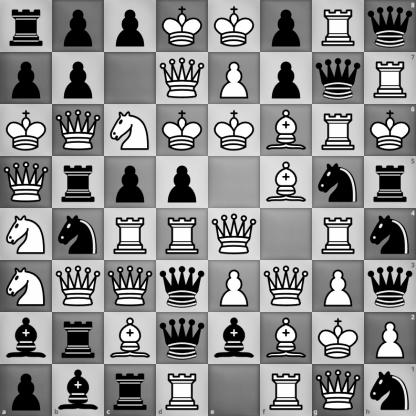B: (105, 313, 156, 364), (261, 105, 312, 156), (261, 157, 312, 208), (261, 313, 312, 364)
K: (364, 104, 416, 156), (1, 105, 52, 156), (157, 1, 208, 52), (157, 105, 208, 156), (209, 1, 260, 52), (209, 105, 260, 156), (313, 313, 364, 364)
N: (1, 209, 52, 260), (1, 261, 52, 312), (105, 105, 156, 156)
P: (364, 312, 416, 364), (209, 53, 260, 104), (209, 261, 260, 312), (313, 261, 364, 312)
Q: (312, 364, 364, 416), (1, 157, 52, 208), (53, 105, 104, 156), (53, 261, 104, 312), (105, 261, 156, 312), (157, 53, 208, 104), (209, 209, 260, 260), (261, 261, 312, 312)
R: (156, 364, 209, 416), (260, 364, 312, 416), (364, 52, 416, 104), (105, 209, 156, 260), (157, 209, 208, 260), (313, 1, 364, 52), (313, 105, 364, 156), (313, 209, 364, 260)
b: (52, 364, 104, 416), (1, 313, 52, 364), (209, 313, 260, 364)
board: (0, 0, 415, 415)
n: (364, 364, 416, 416), (364, 209, 416, 260), (53, 209, 104, 260), (313, 157, 364, 208)
p: (0, 364, 52, 416), (1, 53, 52, 104), (53, 1, 104, 52), (53, 53, 104, 104), (105, 1, 156, 52), (105, 157, 156, 208), (157, 157, 208, 208), (261, 1, 312, 52), (261, 53, 312, 104)
q: (364, 0, 416, 52), (364, 260, 416, 312), (157, 261, 208, 312), (157, 313, 208, 364), (313, 53, 364, 104)
r: (364, 156, 416, 209), (104, 364, 156, 416), (1, 1, 52, 52), (53, 157, 104, 208), (53, 313, 104, 364)
